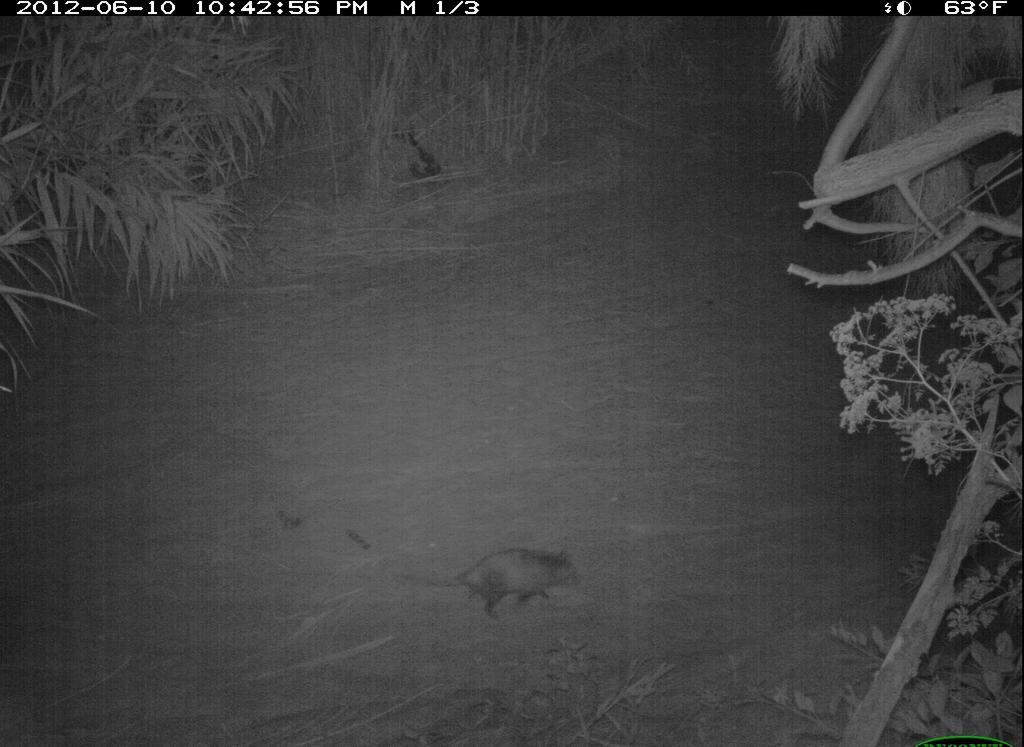opossum: (388, 537, 591, 625)
